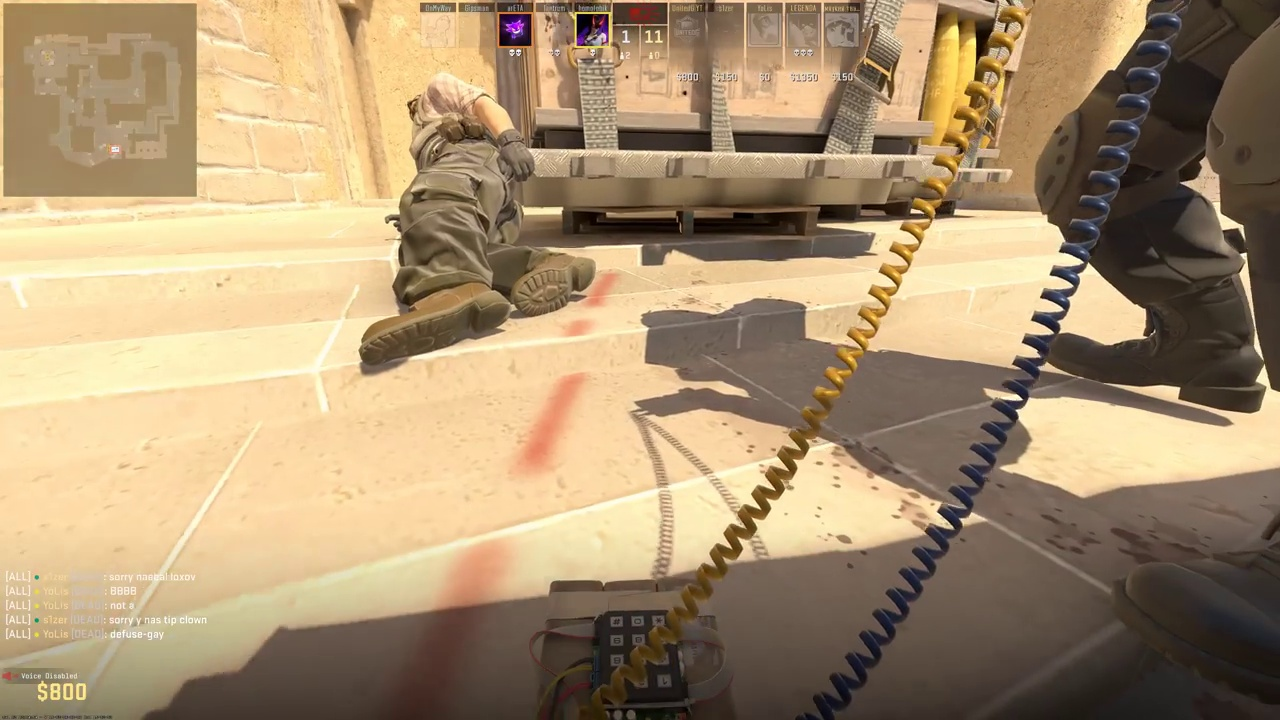CT: (1063, 5, 1280, 411)
